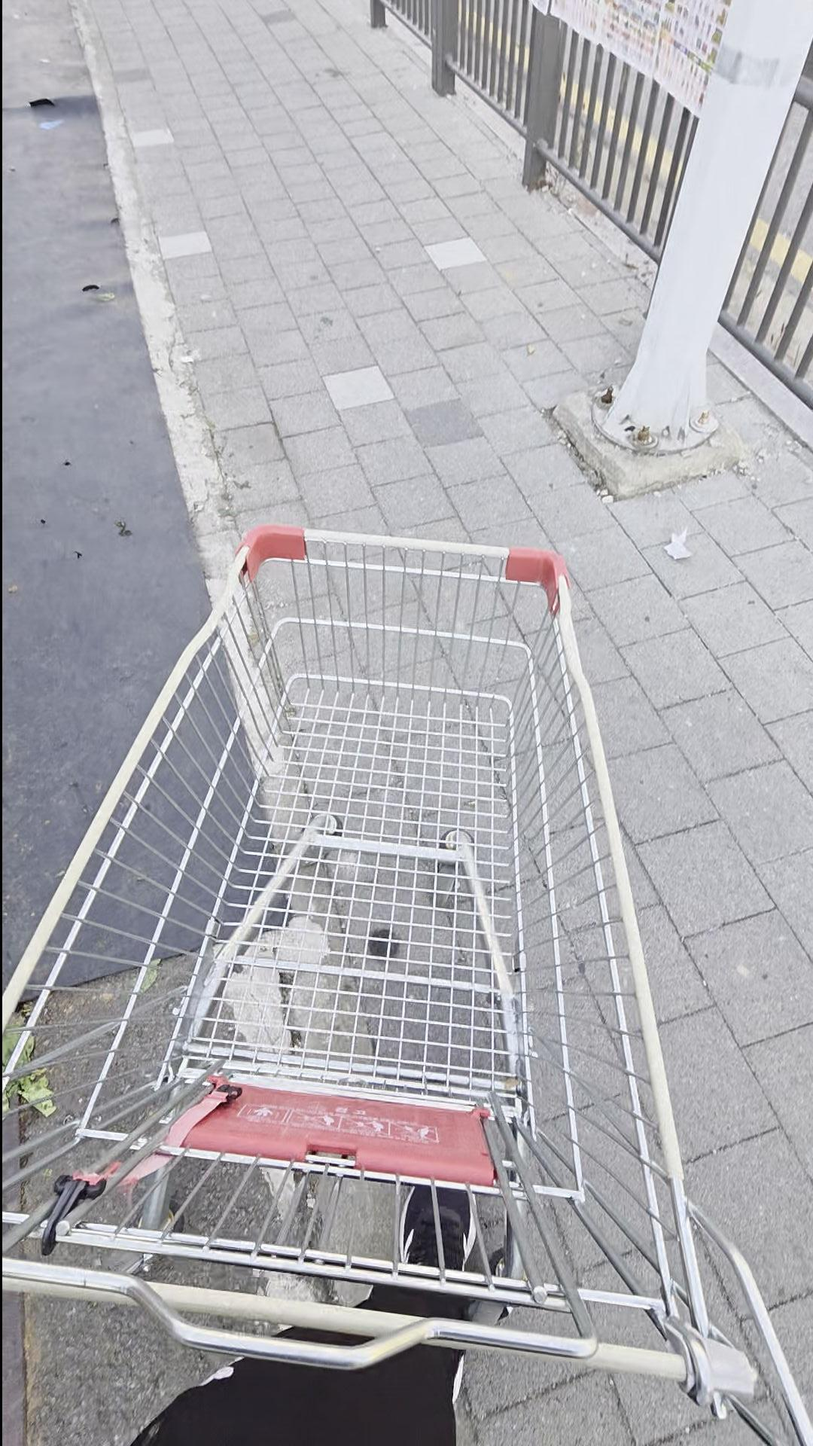empty_cart: (0, 520, 812, 1432)
